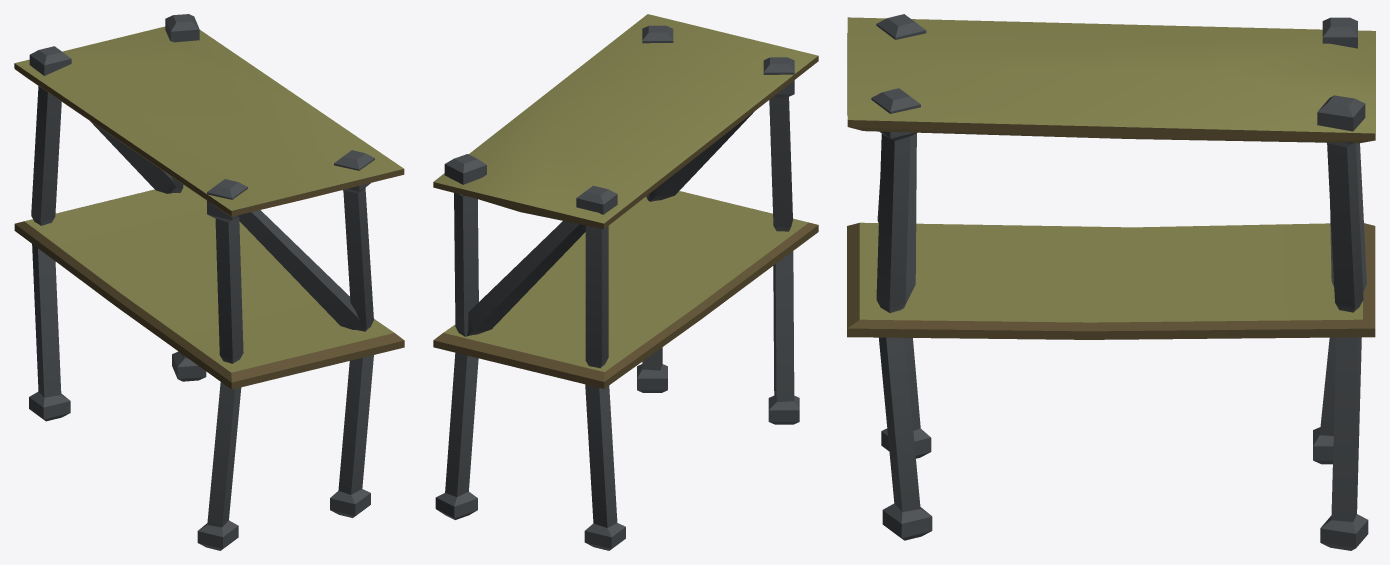
The model's file is Estanteria.FBX.
The picture shows the model from 3 angles, left to right: view 1: azimuth 30°, elevation 25°; view 2: azimuth 150°, elevation 25°; view 3: azimuth 270°, elevation 25°; orthographic projection. The views are drawn at different scales.
Parts seen in each view (by area): view 1: Estanteria; view 2: Estanteria; view 3: Estanteria.
Part boxes in pixels (bbox=[...]): Estanteria: bbox=[14, 14, 404, 550]; Estanteria: bbox=[433, 14, 818, 550]; Estanteria: bbox=[847, 14, 1375, 550].
Size of the model in its own units: 231 by 468 by 436.
Materials: 1 (1 with a texture image).
